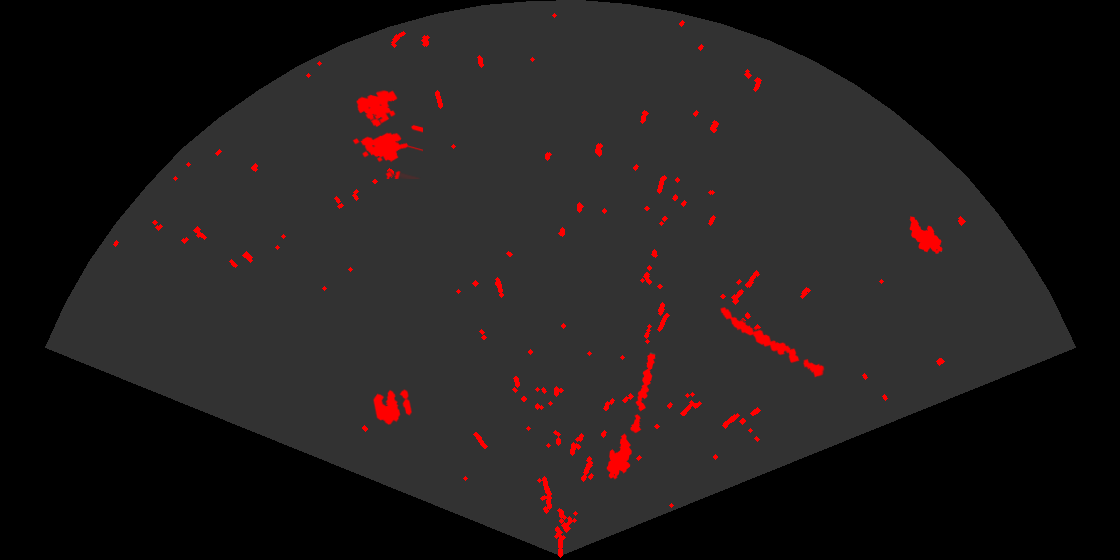AUV: (908, 215, 944, 256), (605, 432, 633, 481)
ball: (371, 388, 414, 426)
cage: (351, 88, 423, 179)
chain: (719, 305, 826, 379), (629, 352, 657, 436)
